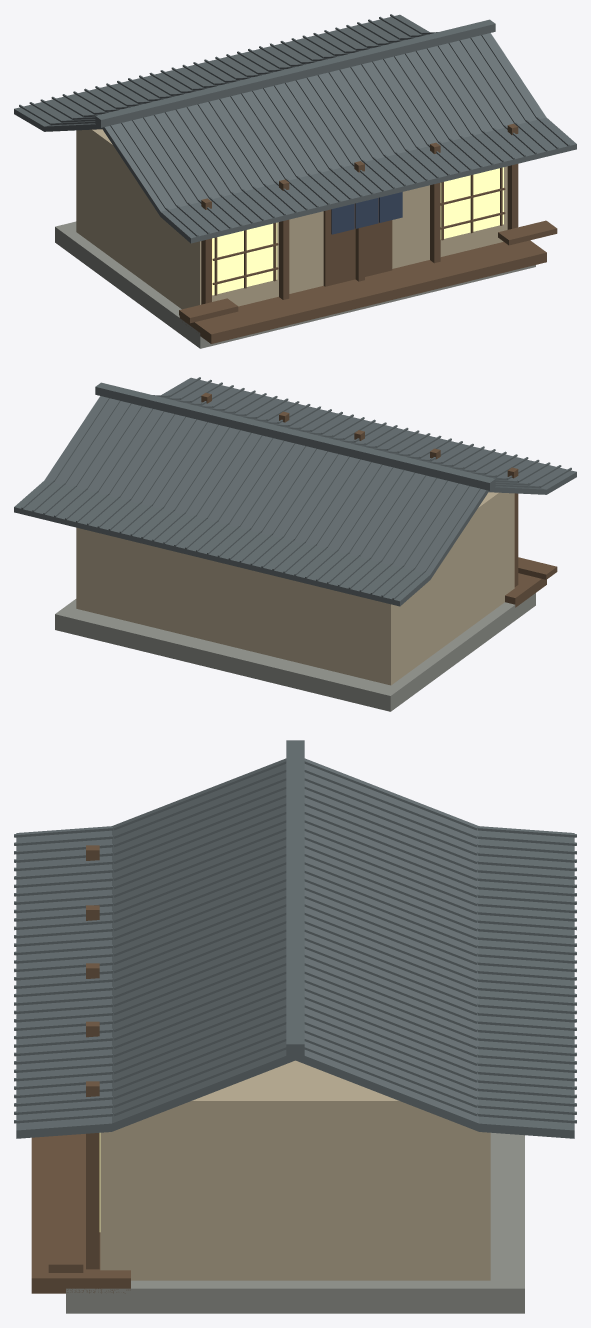
The model's file is tea-house.glb.
The picture shows the model from 3 angles, top to bottom: view 1: azimuth 30°, elevation 25°; view 2: azimuth 150°, elevation 25°; view 3: azimuth 270°, elevation 25°; orthographic projection. The views are drawn at different scales.
Visible parts, largest first — view 1: tea-house; view 2: tea-house; view 3: tea-house.
Part boxes in pixels (box(x1,y1,x2,y2)): tea-house: box(14, 14, 576, 348); tea-house: box(14, 377, 576, 711); tea-house: box(14, 740, 576, 1313).
Bounding box in the file's own units: 9.4 × 4.21 × 7.36.
